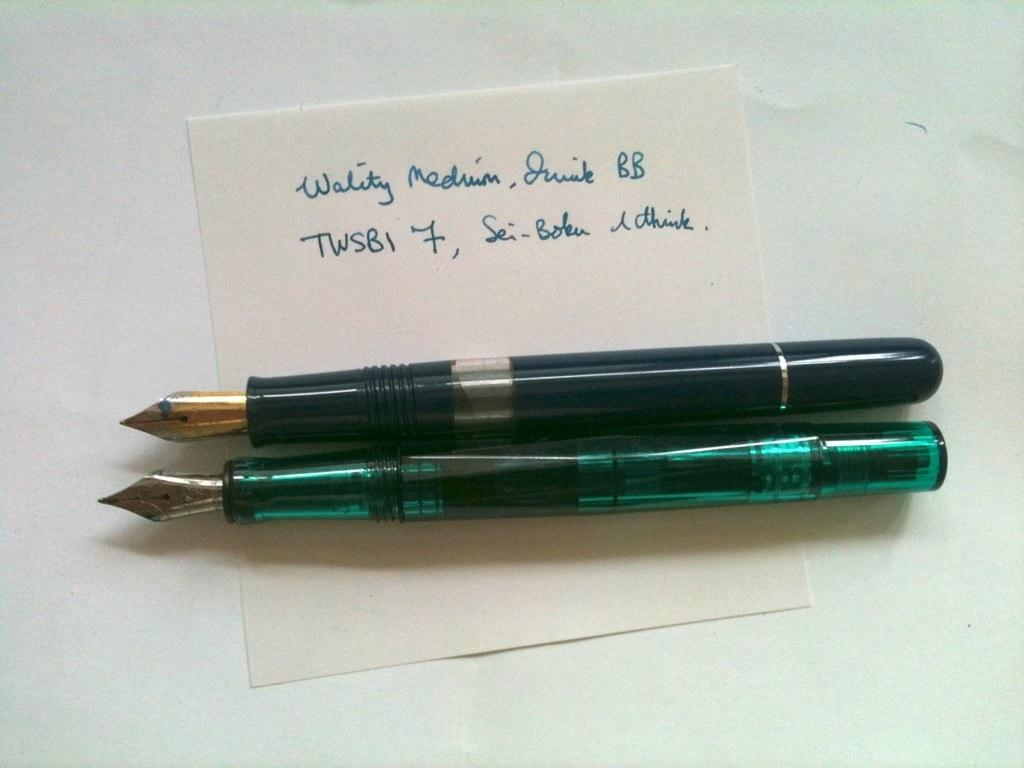pen: (116, 335, 945, 450), (95, 447, 943, 528)
